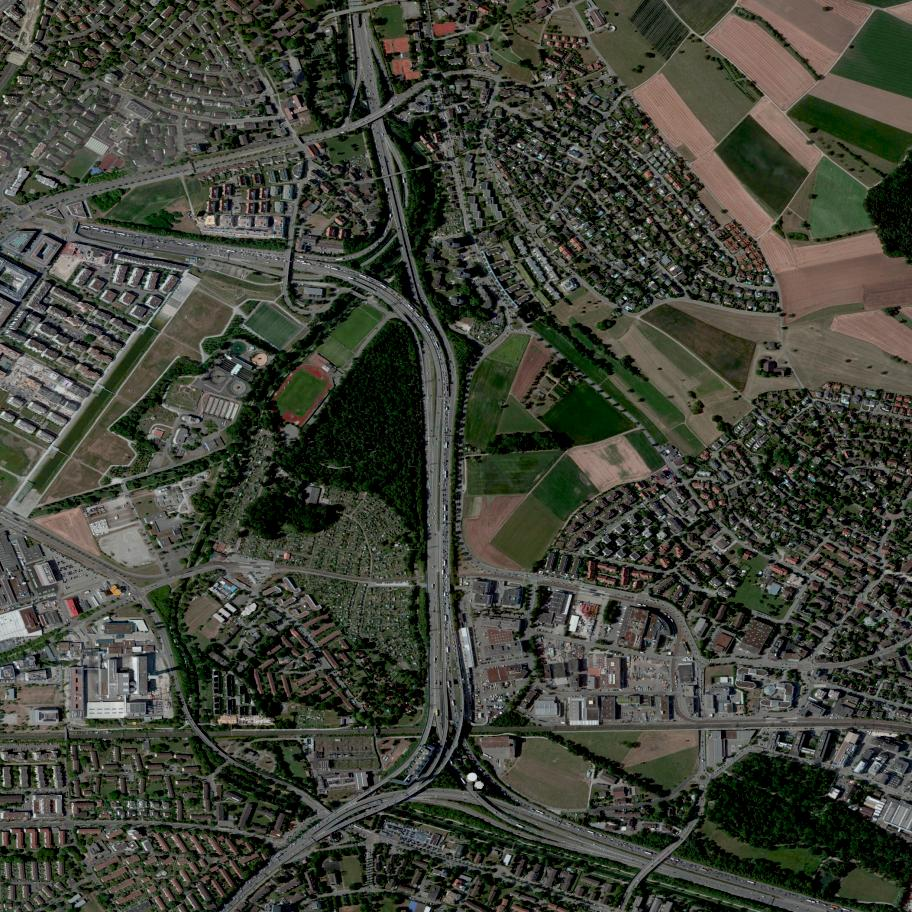storage-tank: (473, 779, 487, 792), (466, 773, 478, 782)
